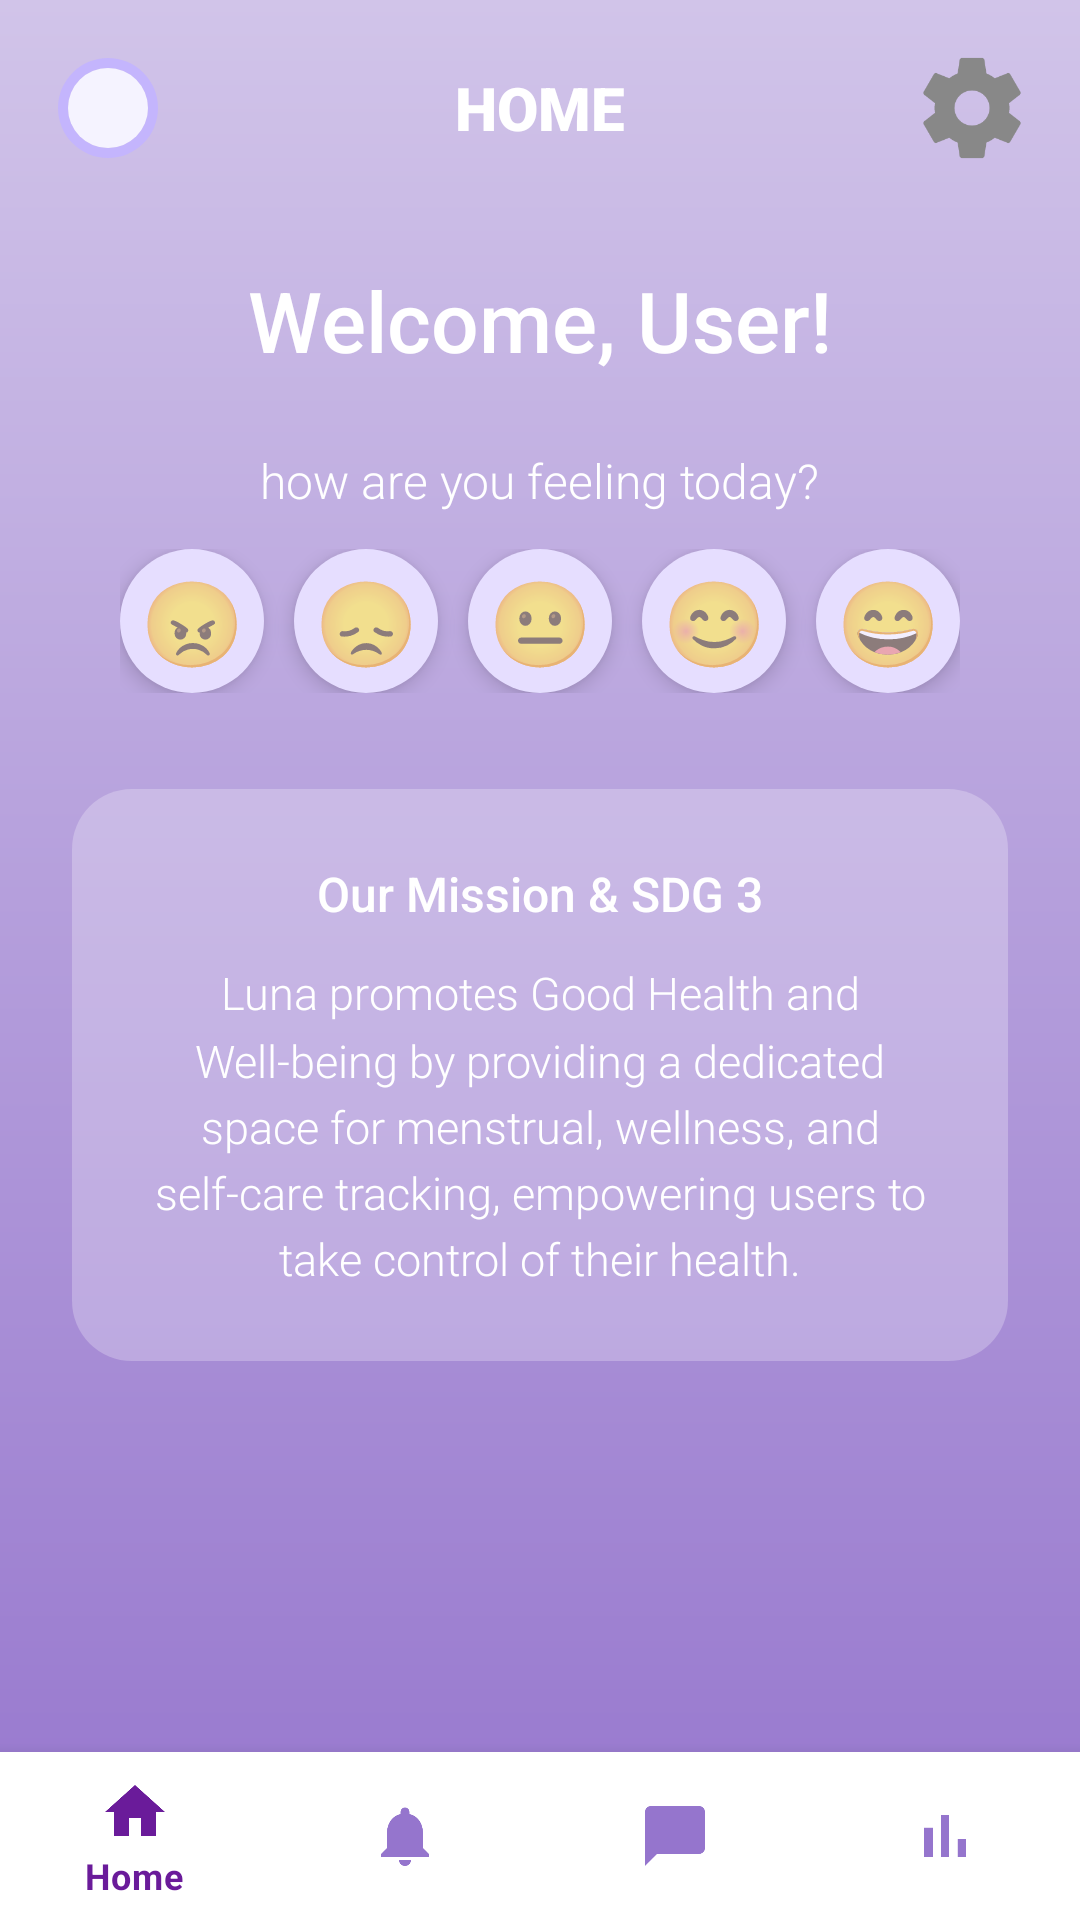

Icons on this 1080px×1920px Android screen, each with its box as (x1, y1, x2, y2):
settings: (923, 58, 1021, 158)
